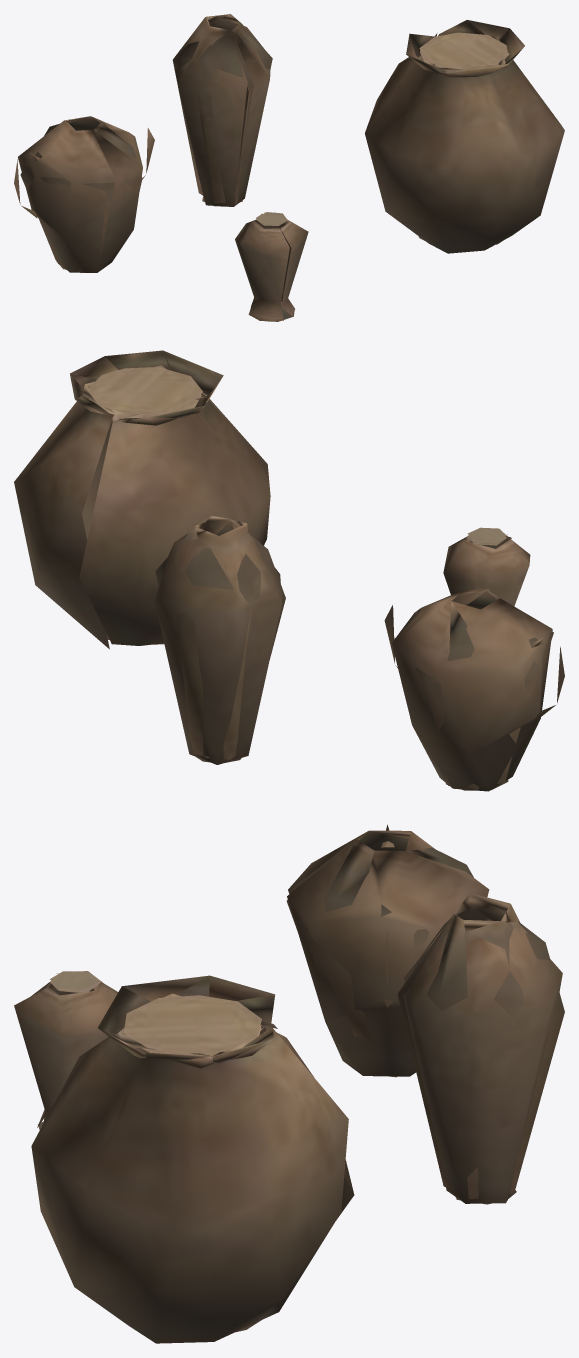
The model's file is vc_pots.glb.
3 views of the same model, one above another, from view 1: azimuth 30°, elevation 25°; view 2: azimuth 150°, elevation 25°; view 3: azimuth 270°, elevation 25° (orthographic). The views are drawn at different scales.
Parts seen in each view (by area): view 1: Lid_Large_Pottery_0; view 2: Lid_Large_Pottery_0; view 3: Lid_Large_Pottery_0.
Part boxes in pixels (<box>): Lid_Large_Pottery_0: <box>14,14,564,321</box>; Lid_Large_Pottery_0: <box>14,350,564,791</box>; Lid_Large_Pottery_0: <box>14,824,564,1343</box>.
Bounding box in the file's own units: 1.85 × 0.6899 × 1.16.
1 material, 1 textured.
